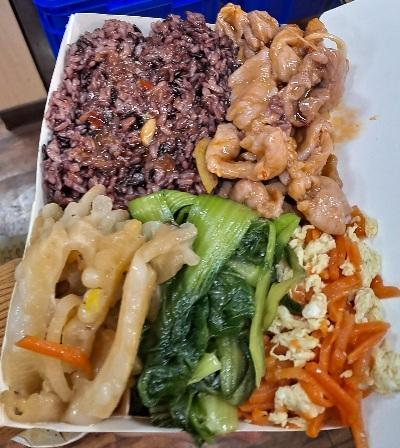big grilled chicken leg: (0, 3, 351, 440)
braised fish: (51, 14, 232, 204)
braised fish fillet: (4, 187, 190, 426), (131, 187, 284, 423), (260, 212, 400, 430)
braised pork: (214, 8, 352, 227)
